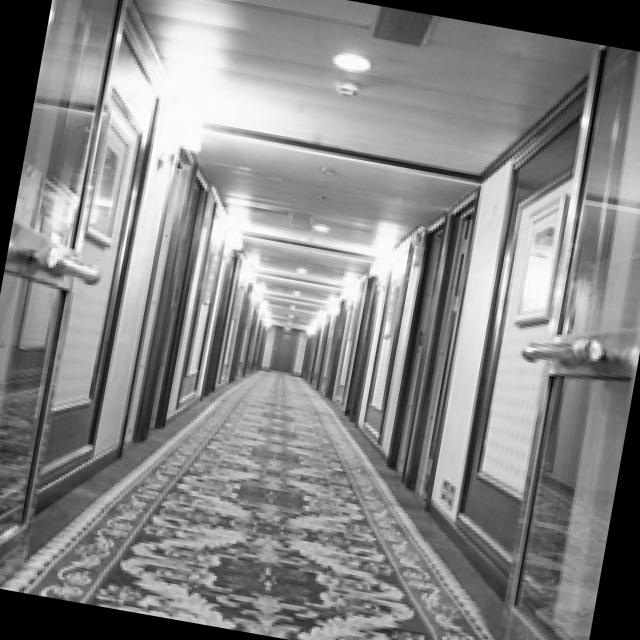carpet floor: (0, 363, 561, 640)
ceiling beam: (136, 0, 622, 329)
door bars: (408, 189, 483, 502), (150, 163, 212, 435), (391, 211, 451, 475), (271, 325, 303, 372)
painting crop: (517, 197, 570, 324), (87, 106, 134, 246)
